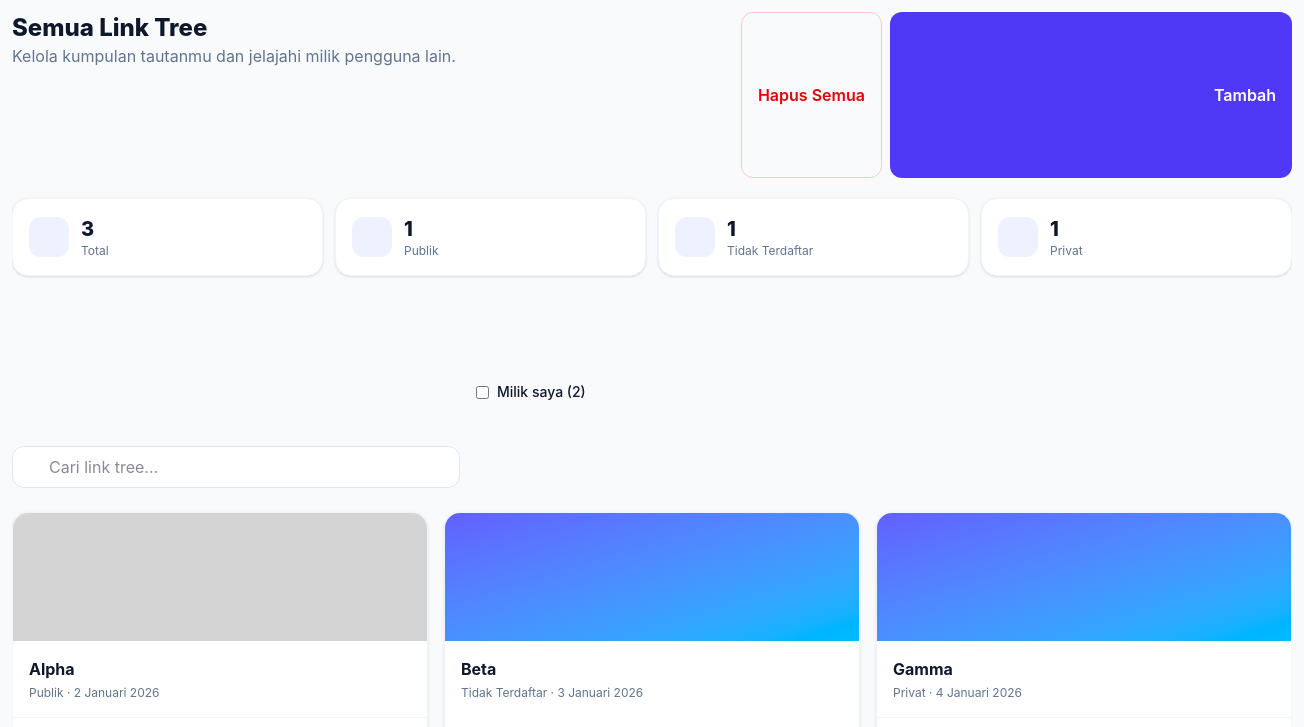
HomePage › mencari berdasarkan judul dan memfilter milik saya
Type "bet" into the search field labelled "Cari link tree".
click(236, 467); type("bet")  # box [12,446,460,488]
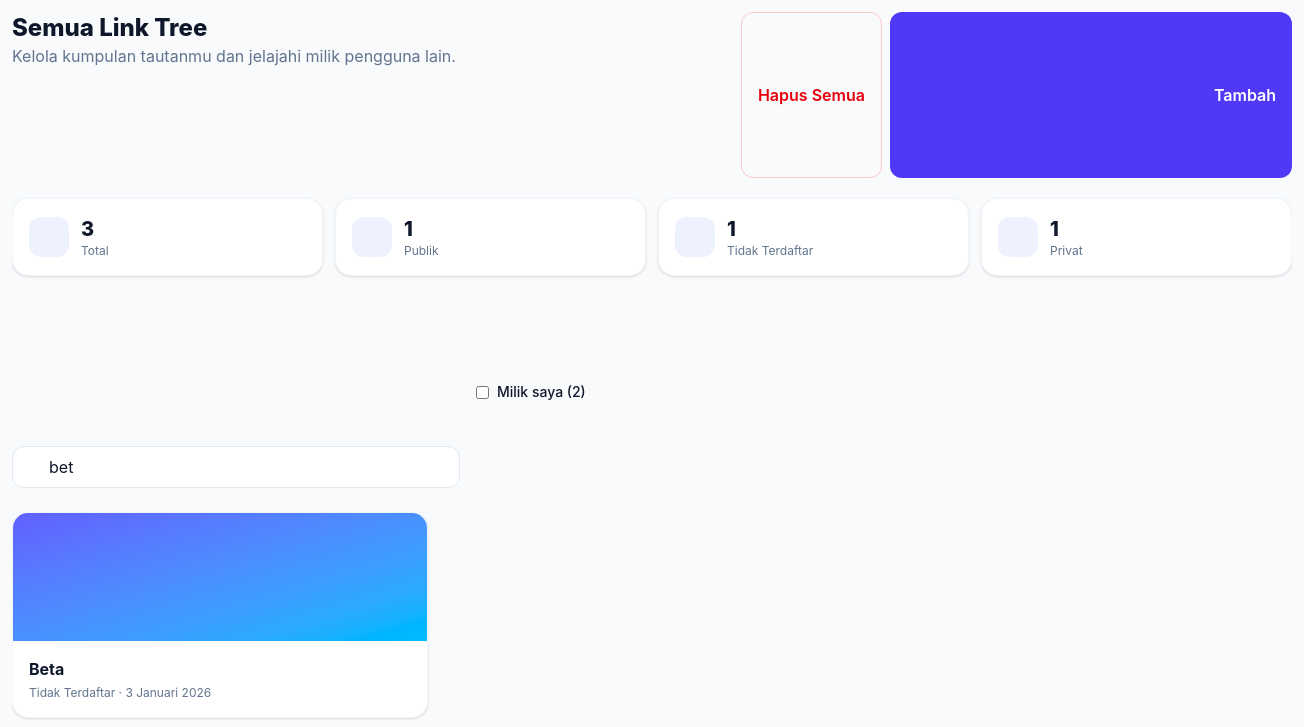
Expected: the text "Beta" is shown, [29,659,64,679]
Expected: the number of list items with test id "linktree-item" is 1, [12,512,428,718]
Clear the search field named "Cari link tree" at coordinates (236, 467), box [12,446,460,488]
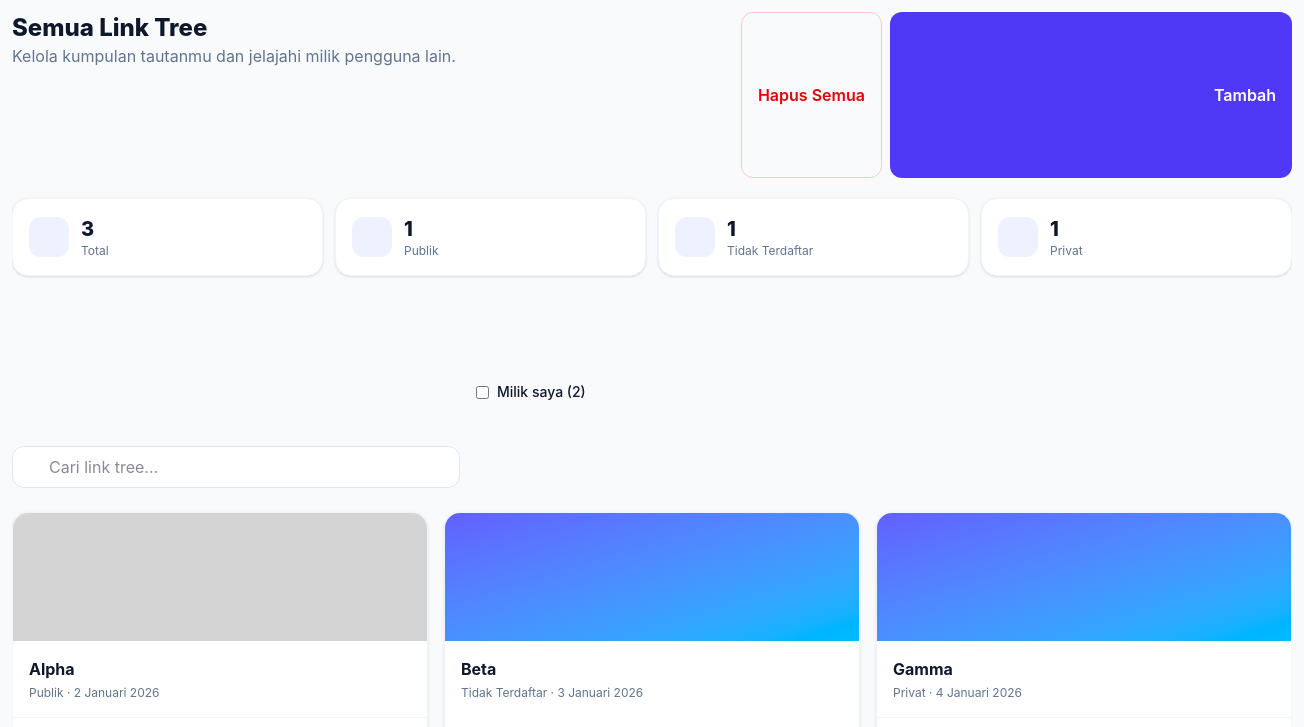
Click the checkbox labelled "Milik saya (2)".
click(482, 392)  # box [476,386,489,398]
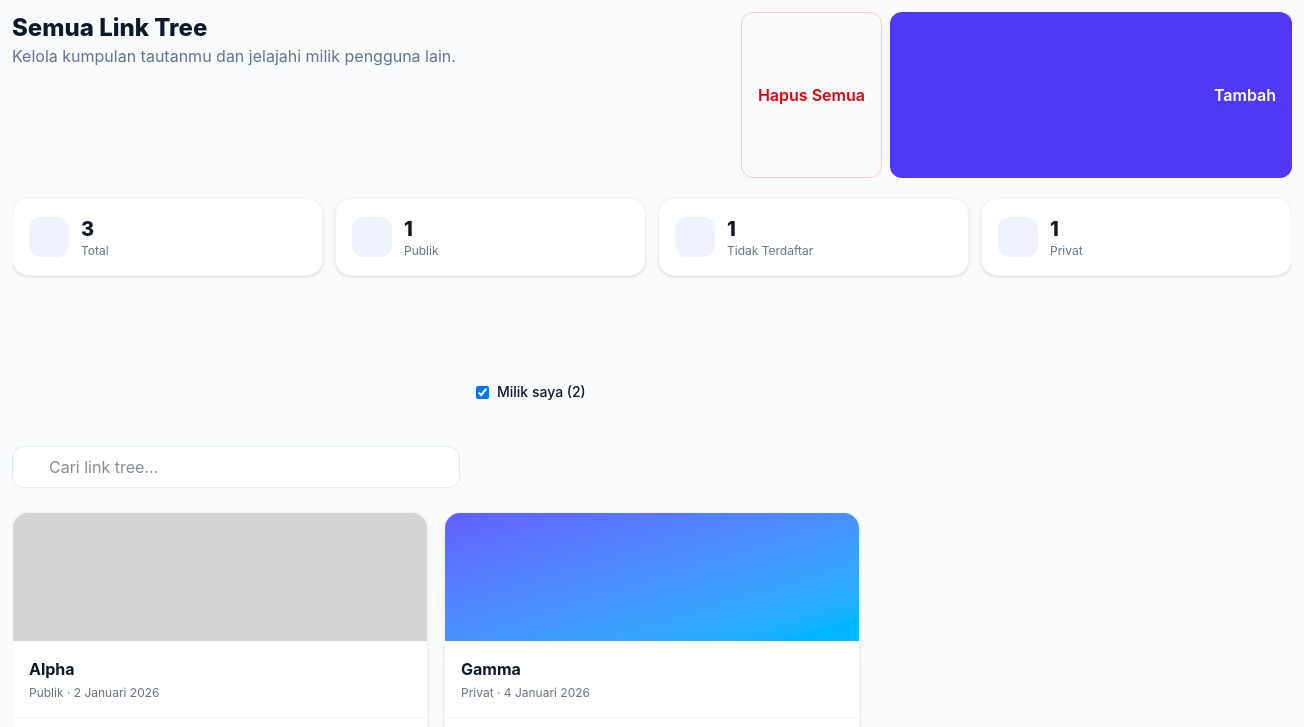
Expected: the link "Beta" is gone
